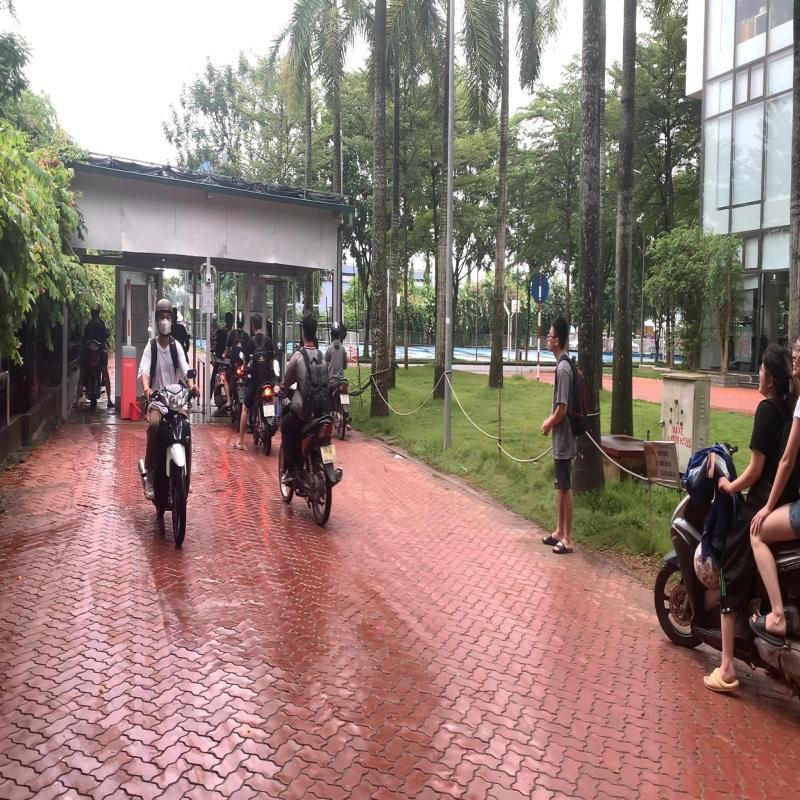nohelmet: (300, 310, 318, 344), (252, 312, 264, 332)
